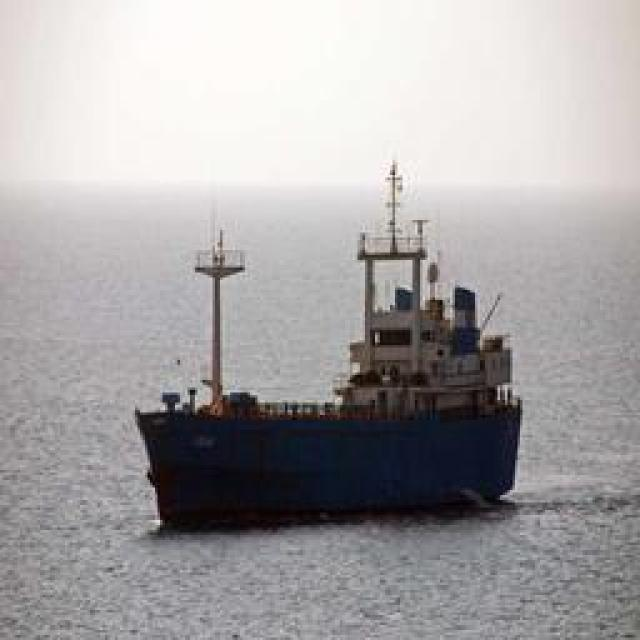CIV_Ship: (144, 152, 528, 520)
